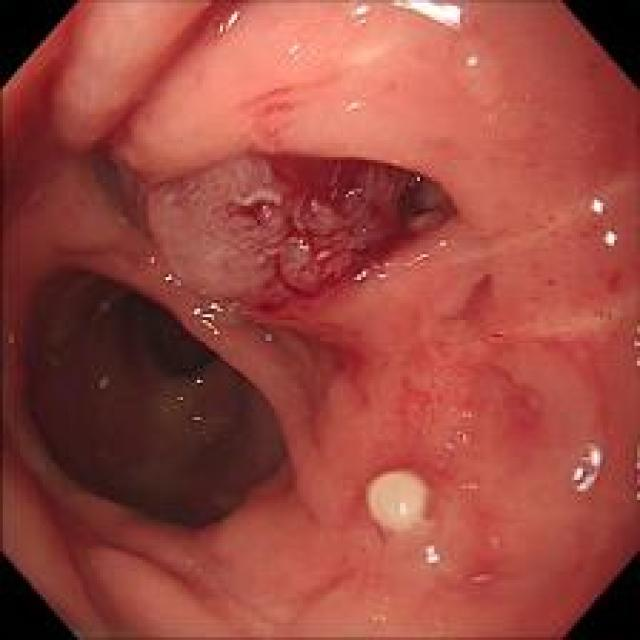blood: (238, 106, 385, 301), (274, 318, 370, 414)
color misalignment: (9, 328, 111, 405), (445, 409, 481, 501), (346, 96, 378, 118), (469, 565, 499, 588), (482, 526, 505, 555)
contrast: (22, 278, 259, 535)
specularity: (349, 2, 468, 40), (356, 245, 432, 280), (186, 296, 232, 342), (570, 439, 601, 495), (589, 192, 616, 255), (278, 36, 308, 64), (464, 46, 488, 81), (416, 540, 442, 570), (214, 12, 242, 36), (161, 271, 184, 286), (396, 500, 409, 512), (195, 374, 204, 386), (146, 255, 155, 265), (192, 414, 202, 422), (172, 392, 182, 400)
